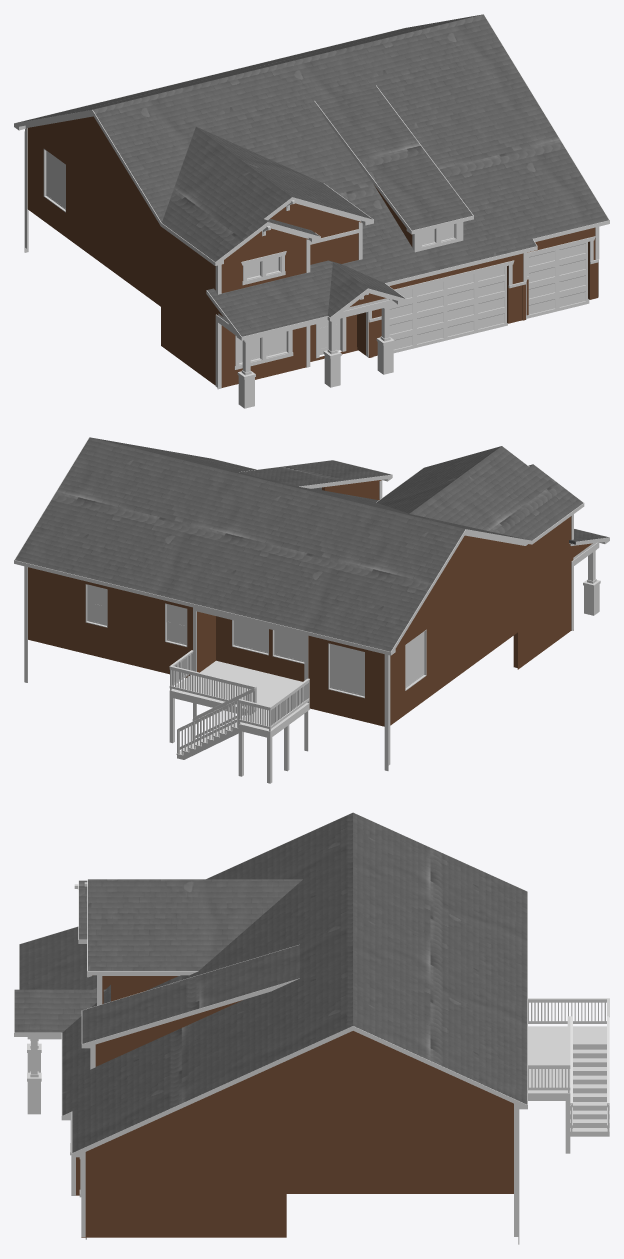
File: 149-1420-dm-craftsman.glb
3 renders of one model, top to bottom at view 1: azimuth 30°, elevation 25°; view 2: azimuth 150°, elevation 25°; view 3: azimuth 270°, elevation 25°, orthographic. The views are drawn at different scales.
Visible parts, largest first — view 1: Basic Roof Wood Rafter 4" - Asphalt Shingle - Insulated_1a8d, Basic Roof Wood Rafter 4" - Asphalt Shingle - Insulated_1878, Basic Wall BSB Exterior - Stud_5.5" - Sheathing_0.5" - _a6d2, Basic Roof Wood Rafter 4" - Asphalt Shingle - Insulated_042a, Traditional - BSB Exterior - Overhead Garage Door - Clo_c4af, Basic Roof Wood Rafter 4" - Asphalt Shingle - Insulated_b53a, Basic Wall BSB Exterior - Stud_5.5" - Sheathing_0.5" - _1dc8, Basic Wall BSB Exterior - Stud_1.5" - Sheathing_0.5" - _d800, Traditional - BSB Exterior - Overhead Garage Door - Clo_7aee, Basic Wall BSB Exterior - Stud_5.5" - Sheathing_0.5" - _799c, Basic Wall BSB Exterior - Stud_5.5" - Sheathing_0.5" - _5fbc, Fascia Fascia-Flat 1x6 w/12" Soffit Bd [4427038] (+20 smaller); view 2: Basic Roof Wood Rafter 4" - Asphalt Shingle - Insulated_1a8d, Basic Roof Wood Rafter 4" - Asphalt Shingle - Insulated_1878, Basic Wall BSB Exterior - Stud_5.5" - Sheathing_0.5" - _6cac, Basic Wall BSB Exterior - Stud_5.5" - Sheathing_0.5" - _a6d2, Basic Wall BSB Exterior - Stud_5.5" - Sheathing_0.5" - _1dc8, Basic Wall BSB Exterior - Stud_5.5" - Sheathing_0.5" - _8784, Floor Decking - 2x10 w/ 5/4x6 Decking [4292002], Basic Wall BSB Exterior - Stud_1.5" - Sheathing_0.5" - _d800, Fascia Fascia-Flat 1x6 w/12" Soffit Bd [4427038], Basic Wall BSB Exterior - Stud_5.5" - Sheathing_0.5" - _5fbc, Trim - Corner Boards Trim - Corner Boards [4408118], Basic Wall BSB Exterior - Stud_5.5" - Sheathing_0.5" - _1ba4 (+12 smaller); view 3: Basic Roof Wood Rafter 4" - Asphalt Shingle - Insulated_1a8d, Basic Wall BSB Exterior - Stud_5.5" - Sheathing_0.5" - _c049, Basic Roof Wood Rafter 4" - Asphalt Shingle - Insulated_1878, Basic Wall BSB Exterior - Stud_1.5" - Sheathing_0.5" - _0230, Basic Wall BSB Exterior - Stud_1.5" - Sheathing_0.5" - _edae, Basic Wall BSB Exterior - Stud_3.5" - Sheathing_0.5" - _1d57, Basic Wall BSB Exterior - Stud_3.5" - Sheathing_0.5" - _db0c, Basic Roof Wood Rafter 4" - Asphalt Shingle - Insulated_042a, Basic Roof Wood Rafter 4" - Asphalt Shingle - Insulated_b53a, Floor Decking - 2x10 w/ 5/4x6 Decking [4292002], Assembled Stair Stair [4368467]_[4368720], Fascia Fascia-Flat 1x6 w/12" Soffit Bd [4427038] (+8 smaller).
Part boxes in pixels (box(x1,y1,x2,y2)): Basic Roof Wood Rafter 4" - Asphalt Shingle - Insulated_1a8d: box(17, 14, 608, 283); Basic Roof Wood Rafter 4" - Asphalt Shingle - Insulated_1878: box(162, 126, 372, 261); Basic Wall BSB Exterior - Stud_5.5" - Sheathing_0.5" - _a6d2: box(27, 128, 160, 306); Basic Roof Wood Rafter 4" - Asphalt Shingle - Insulated_042a: box(314, 85, 472, 230); Traditional - BSB Exterior - Overhead Garage Door - Clo_c4af: box(389, 266, 507, 353); Basic Roof Wood Rafter 4" - Asphalt Shingle - Insulated_b53a: box(207, 260, 332, 336); Basic Wall BSB Exterior - Stud_5.5" - Sheathing_0.5" - _1dc8: box(161, 227, 195, 370); Basic Wall BSB Exterior - Stud_1.5" - Sheathing_0.5" - _d800: box(28, 116, 158, 223); Traditional - BSB Exterior - Overhead Garage Door - Clo_7aee: box(526, 242, 589, 318); Basic Wall BSB Exterior - Stud_5.5" - Sheathing_0.5" - _799c: box(215, 246, 306, 387); Basic Wall BSB Exterior - Stud_5.5" - Sheathing_0.5" - _5fbc: box(195, 252, 215, 385); Fascia Fascia-Flat 1x6 w/12" Soffit Bd [4427038]: box(16, 14, 609, 285); Basic Roof Wood Rafter 4" - Asphalt Shingle - Insulated_1a8d: box(15, 437, 527, 651); Basic Roof Wood Rafter 4" - Asphalt Shingle - Insulated_1878: box(377, 446, 583, 540); Basic Wall BSB Exterior - Stud_5.5" - Sheathing_0.5" - _6cac: box(28, 567, 192, 677); Basic Wall BSB Exterior - Stud_5.5" - Sheathing_0.5" - _a6d2: box(390, 554, 517, 725); Basic Wall BSB Exterior - Stud_5.5" - Sheathing_0.5" - _1dc8: box(513, 530, 551, 669); Basic Wall BSB Exterior - Stud_5.5" - Sheathing_0.5" - _8784: box(308, 635, 384, 726); Floor Decking - 2x10 w/ 5/4x6 Decking [4292002]: box(169, 660, 309, 738); Basic Wall BSB Exterior - Stud_1.5" - Sheathing_0.5" - _d800: box(402, 535, 524, 638); Fascia Fascia-Flat 1x6 w/12" Soffit Bd [4427038]: box(14, 437, 532, 655); Basic Wall BSB Exterior - Stud_5.5" - Sheathing_0.5" - _5fbc: box(551, 517, 571, 644); Trim - Corner Boards Trim - Corner Boards [4408118]: box(24, 514, 573, 770); Basic Wall BSB Exterior - Stud_5.5" - Sheathing_0.5" - _1ba4: box(216, 616, 304, 681); Basic Roof Wood Rafter 4" - Asphalt Shingle - Insulated_1a8d: box(62, 812, 527, 1152); Basic Wall BSB Exterior - Stud_5.5" - Sheathing_0.5" - _c049: box(285, 1103, 513, 1193); Basic Roof Wood Rafter 4" - Asphalt Shingle - Insulated_1878: box(79, 879, 302, 970); Basic Wall BSB Exterior - Stud_1.5" - Sheathing_0.5" - _0230: box(285, 1031, 511, 1102); Basic Wall BSB Exterior - Stud_1.5" - Sheathing_0.5" - _edae: box(85, 1062, 284, 1154); Basic Wall BSB Exterior - Stud_3.5" - Sheathing_0.5" - _1d57: box(176, 1154, 286, 1237); Basic Wall BSB Exterior - Stud_3.5" - Sheathing_0.5" - _db0c: box(85, 1154, 176, 1237); Basic Roof Wood Rafter 4" - Asphalt Shingle - Insulated_042a: box(82, 945, 299, 1043); Basic Roof Wood Rafter 4" - Asphalt Shingle - Insulated_b53a: box(19, 927, 96, 989); Floor Decking - 2x10 w/ 5/4x6 Decking [4292002]: box(528, 1026, 606, 1100); Assembled Stair Stair [4368467]_[4368720]: box(570, 1045, 609, 1136); Fascia Fascia-Flat 1x6 w/12" Soffit Bd [4427038]: box(61, 812, 527, 1152).
Size of the model in its own units: 15.58 by 7.68 by 18.36.
Materials: 2 (1 with a texture image).
